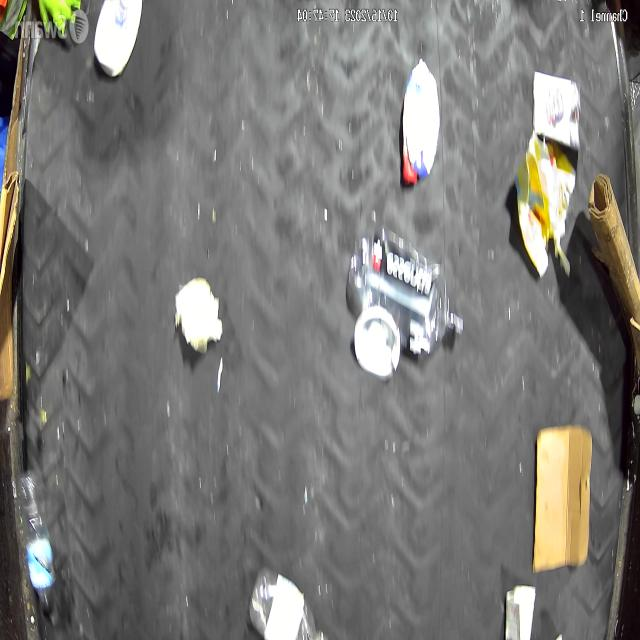plastic_bottle: (344, 218, 464, 370), (14, 466, 56, 616), (248, 564, 328, 640)
